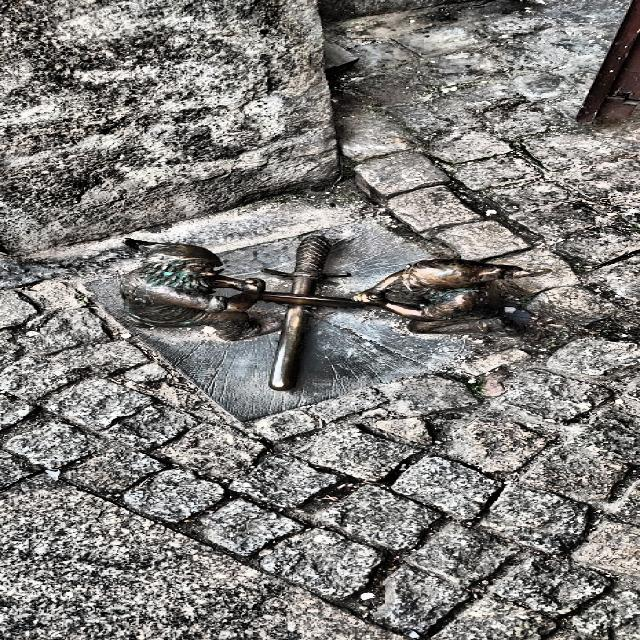Wyrostek i Zadymek: (121, 235, 546, 390)
